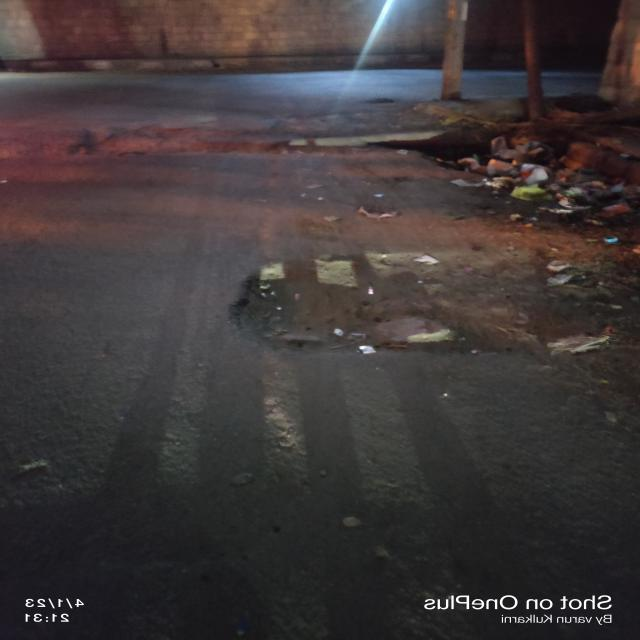potholes: (227, 254, 597, 350)
